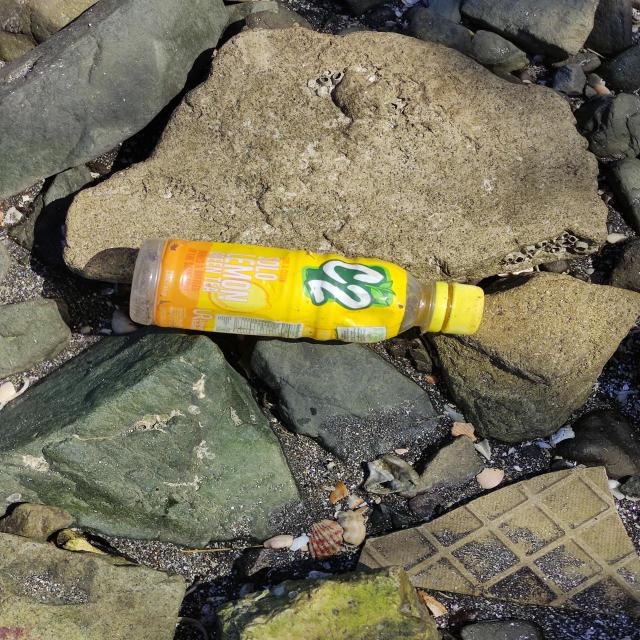plastic_waste: (129, 242, 485, 349)
